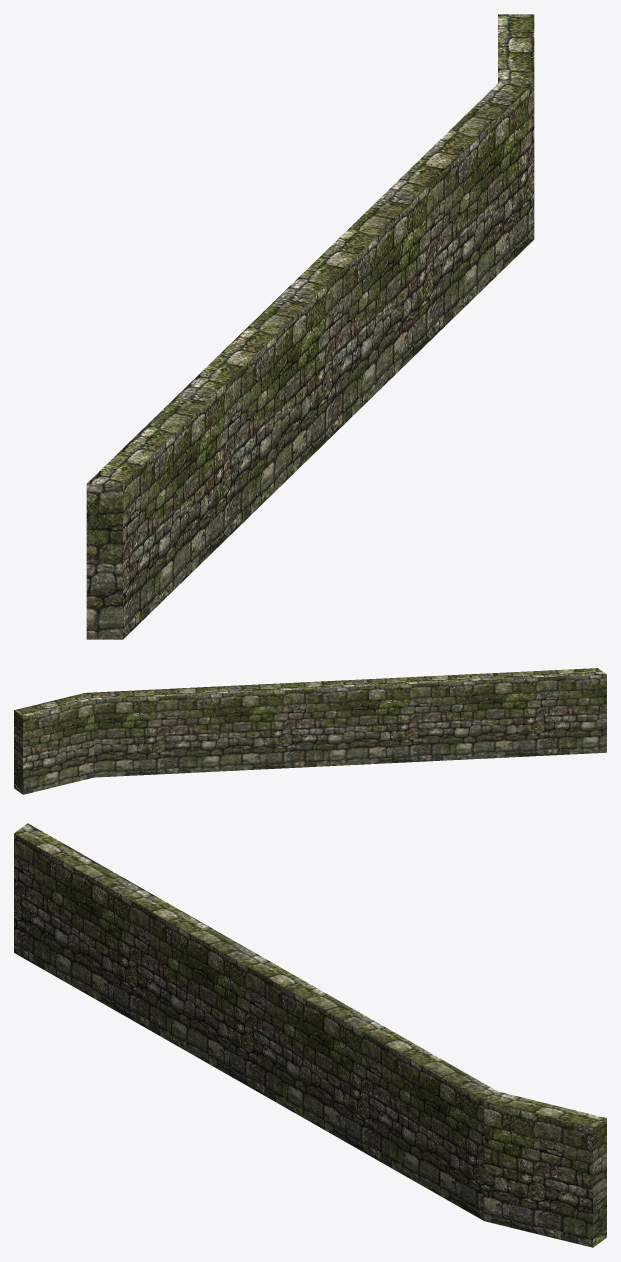
The picture shows the model from 3 angles, top to bottom: view 1: azimuth 30°, elevation 25°; view 2: azimuth 150°, elevation 25°; view 3: azimuth 270°, elevation 25°; orthographic projection. The views are drawn at different scales.
Visible parts, largest first — view 1: TN2_W05; view 2: TN2_W05; view 3: TN2_W05.
Boxes of the visible parts, x1=… form: TN2_W05: x1=86, y1=14, x2=534, y2=639; TN2_W05: x1=14, y1=668, x2=606, y2=794; TN2_W05: x1=14, y1=823, x2=606, y2=1247.
Bounding box in the file's own units: 16.69 × 3.05 × 13.71.
2 materials, 2 textured.
